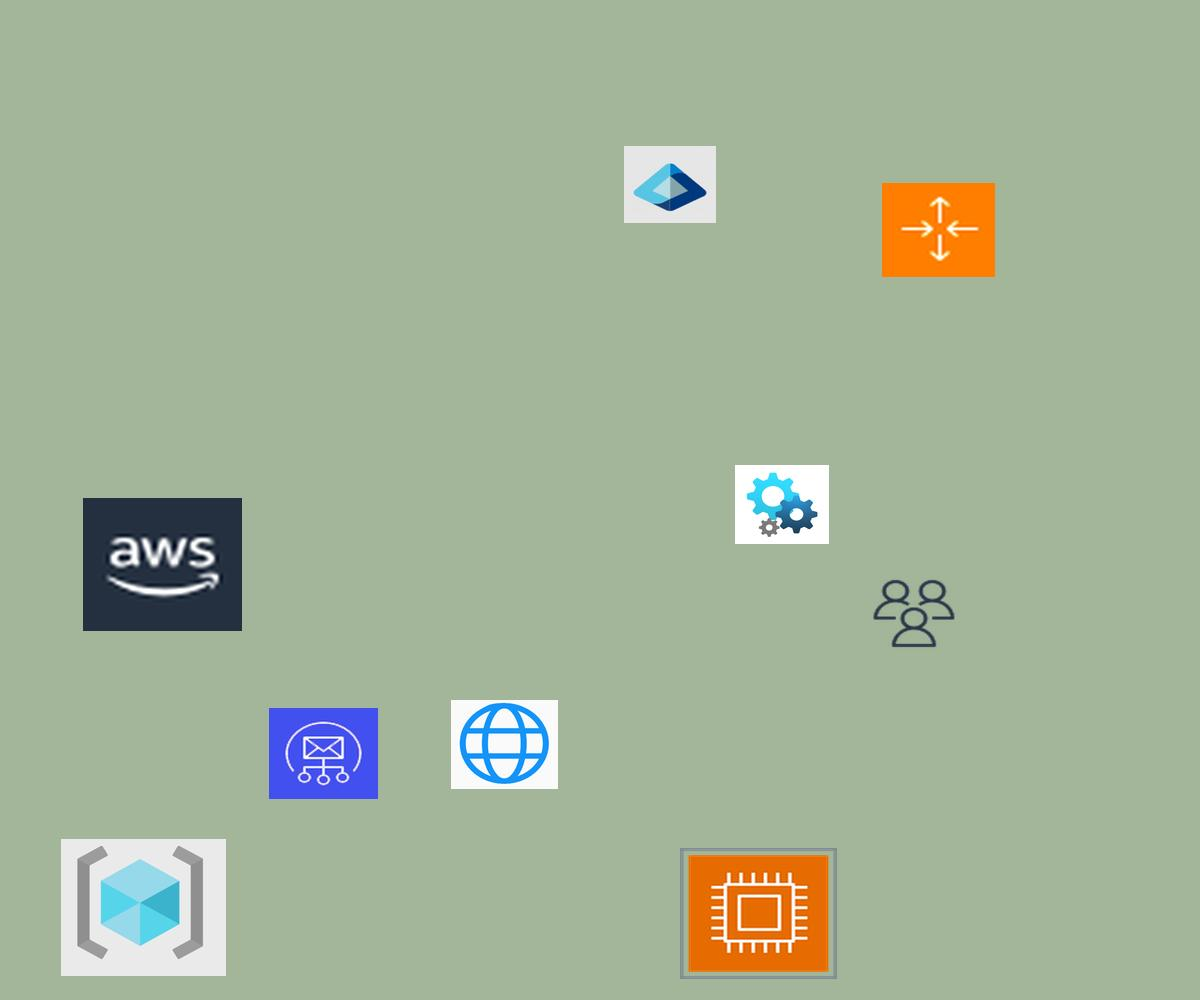AWS-Category_Compute: (680, 848, 837, 979)
AWS-Cloud-logo: (83, 498, 242, 631)
AWS-Res_Users: (870, 577, 958, 650)
AWS-Scaling-group: (882, 183, 995, 277)
AWS-Simple-Email-Service: (269, 708, 378, 799)
Azure_api: (735, 465, 829, 544)
Azure_http: (451, 700, 558, 789)
Azure_microsoft_entra: (624, 146, 716, 223)
Azure_resource_group: (61, 839, 226, 976)
